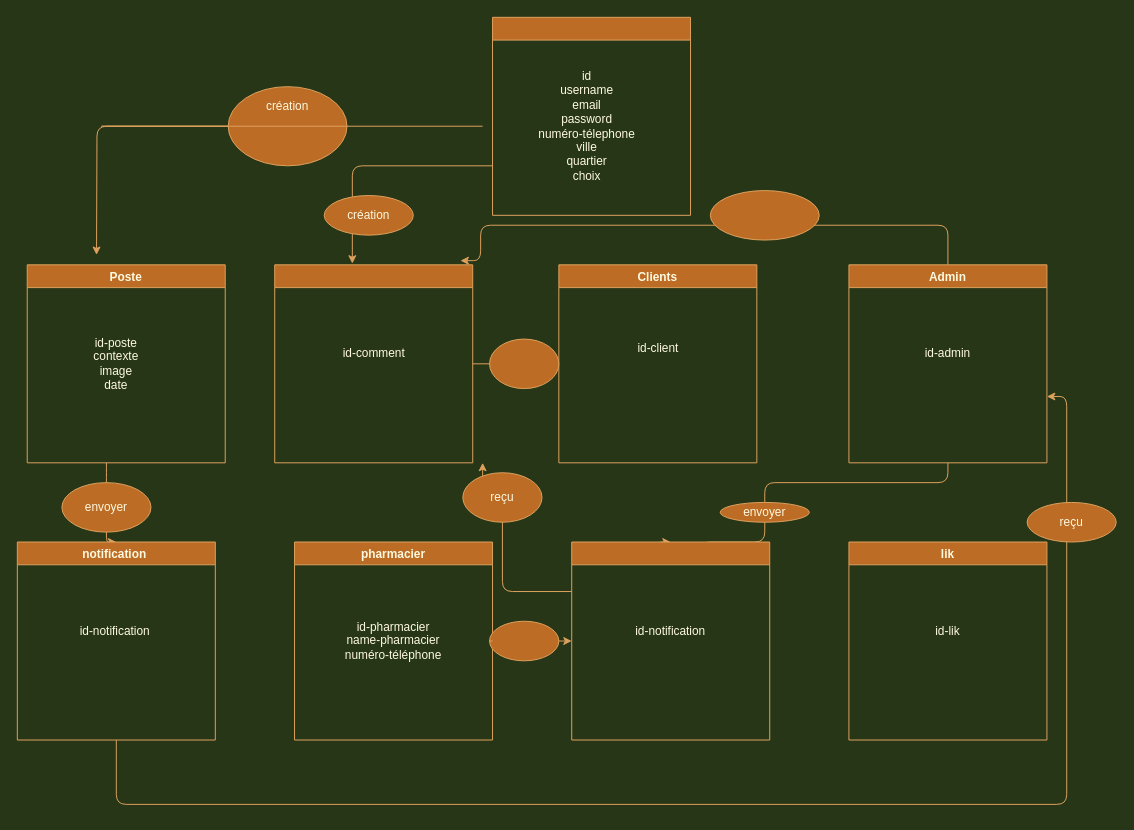
Image size: 1134x830. Some labels were removed from this diagram. The shapes that lost their labels are listed below. From the top down, each one's box as (x1, y1, x2, y2) in pixels, then its label:
(492, 16, 691, 215): users
(709, 190, 819, 240): repondre
(274, 264, 473, 463): comments
(489, 338, 559, 389): lire
(489, 620, 559, 661): point-exact
(571, 541, 770, 740): localisation
